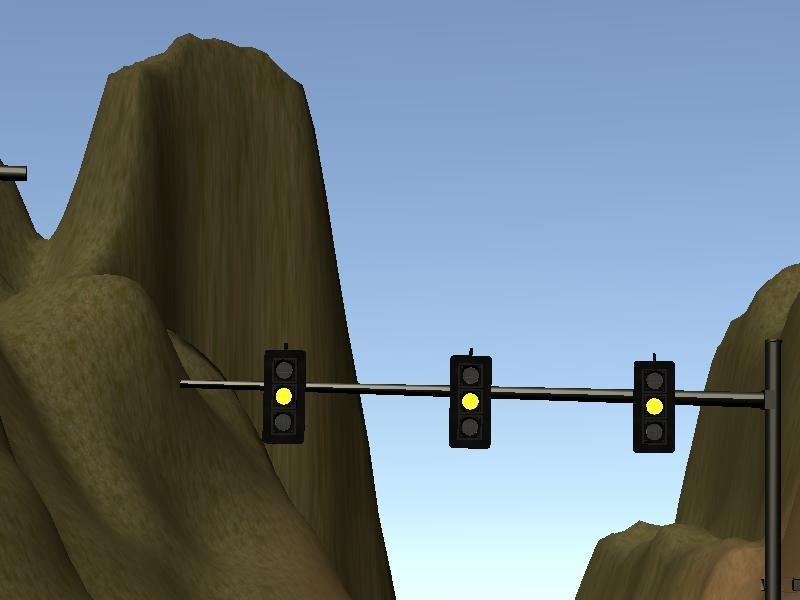YELLOW: (633, 353, 677, 453), (447, 349, 491, 449), (262, 341, 306, 441)
